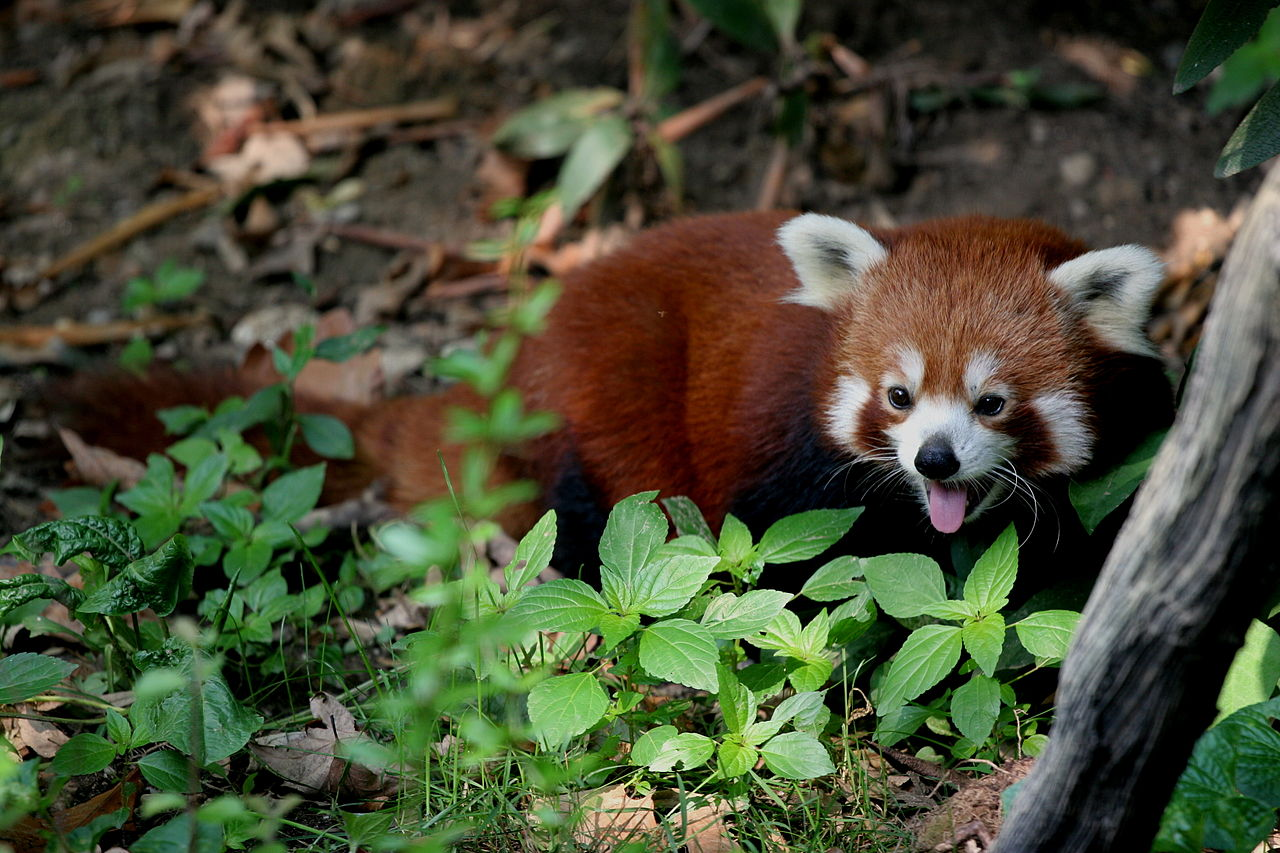red_panda: (327, 209, 1137, 607)
